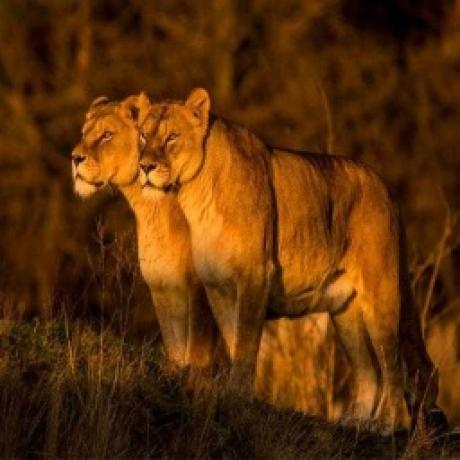Lion: (136, 88, 414, 422), (68, 89, 218, 372)
